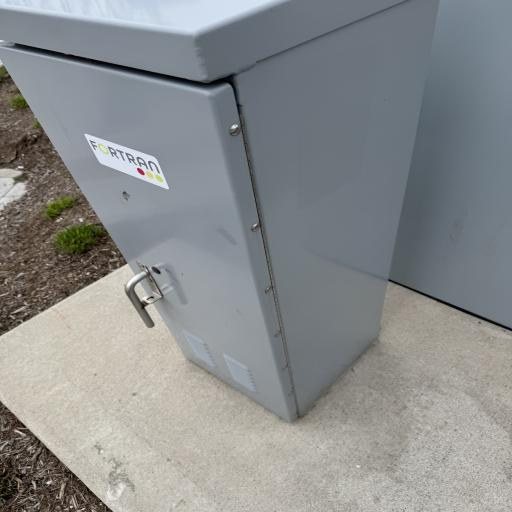Electrical Box: (0, 1, 440, 421)
